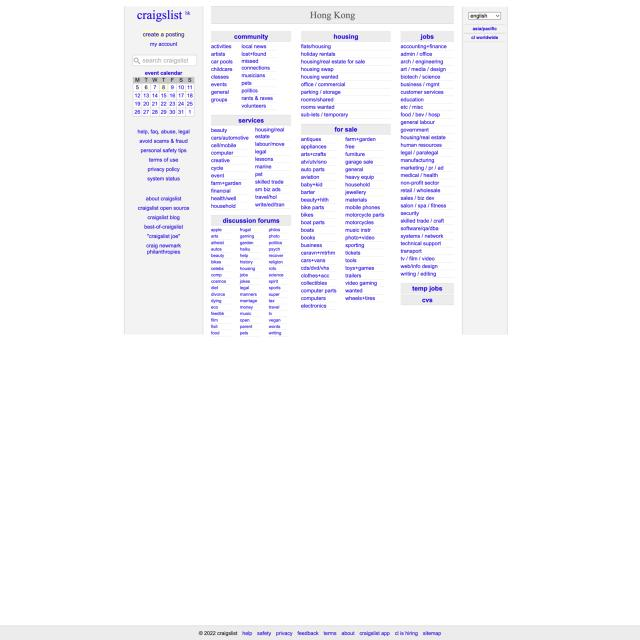input: (132, 54, 198, 66)
logo: (135, 8, 194, 22)
navigation: (300, 135, 389, 312), (399, 42, 452, 278), (211, 225, 290, 340), (210, 126, 290, 210), (301, 42, 373, 121), (210, 44, 278, 112)
